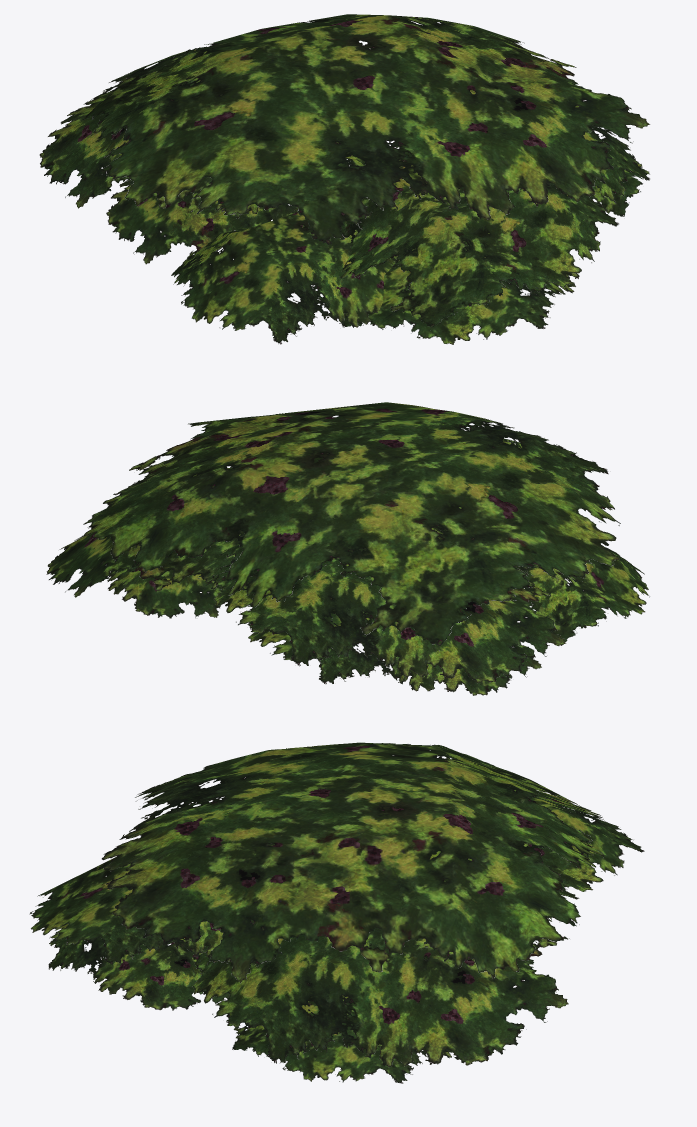
File: tree_leaf_800m.DAE
3 views of the same model, one above another, from view 1: azimuth 30°, elevation 25°; view 2: azimuth 150°, elevation 25°; view 3: azimuth 270°, elevation 25° (orthographic). The views are drawn at different scales.
Visible parts, largest first — view 1: Plane08-Pivot; view 2: Plane08-Pivot; view 3: Plane08-Pivot.
Boxes of the visible parts, <box> form: Plane08-Pivot: <box>39,14,650,344</box>; Plane08-Pivot: <box>46,402,649,695</box>; Plane08-Pivot: <box>29,742,644,1083</box>.
Size of the model in its own units: 1651 by 519 by 1693.
